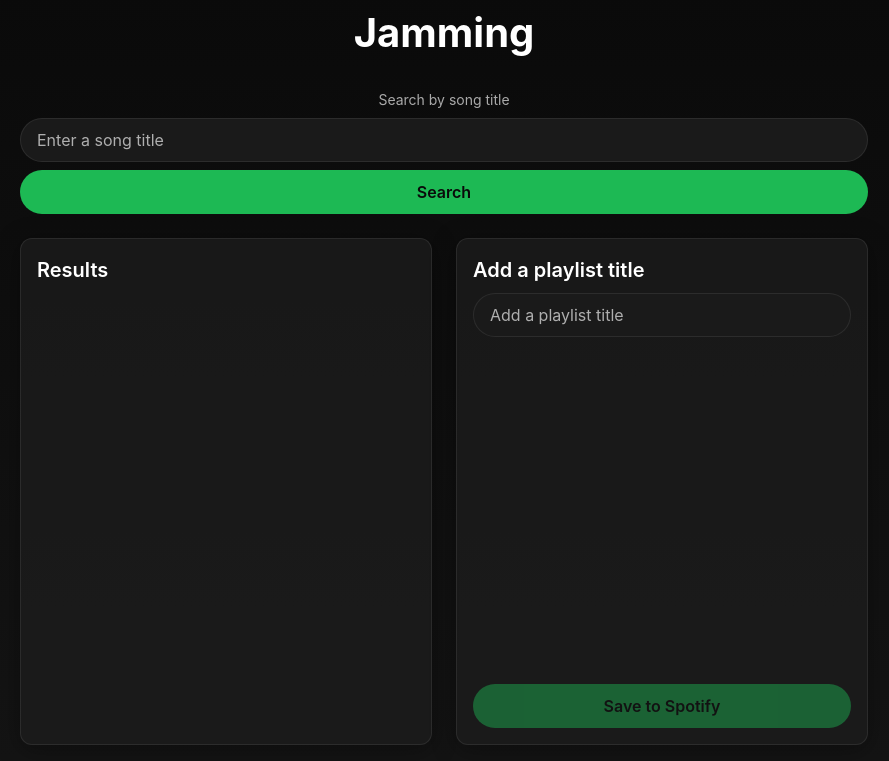
Test: search populates results from mocked Spotify
In the field with test id "search-by-input": (444, 140) [20, 118, 868, 162], type "test"
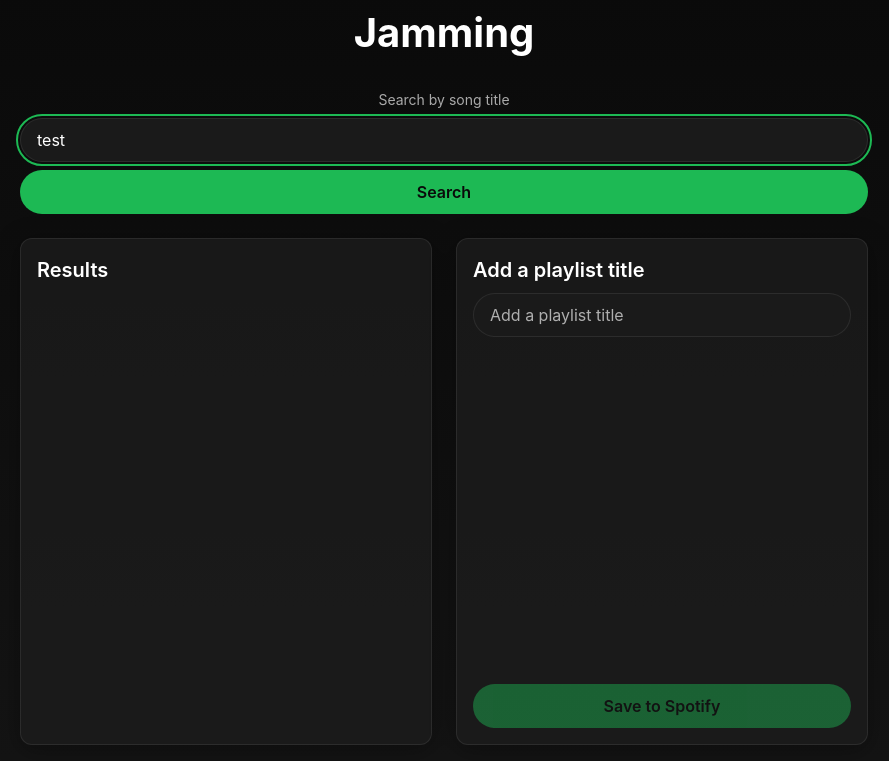
Click the button with test id "search-button": (444, 192) [20, 170, 868, 214]
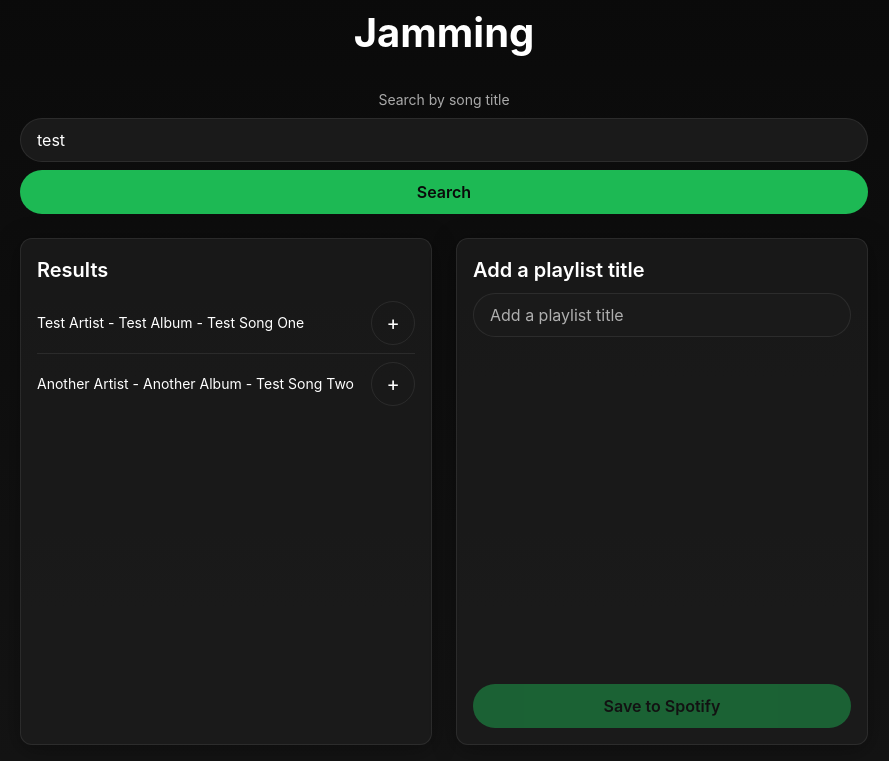
Expected: the text with test id "track-name-track-1" reads "Test Song One", [207, 314, 304, 331]
Expected: the text with test id "track-name-track-2" reads "Test Song Two", [256, 375, 354, 392]
